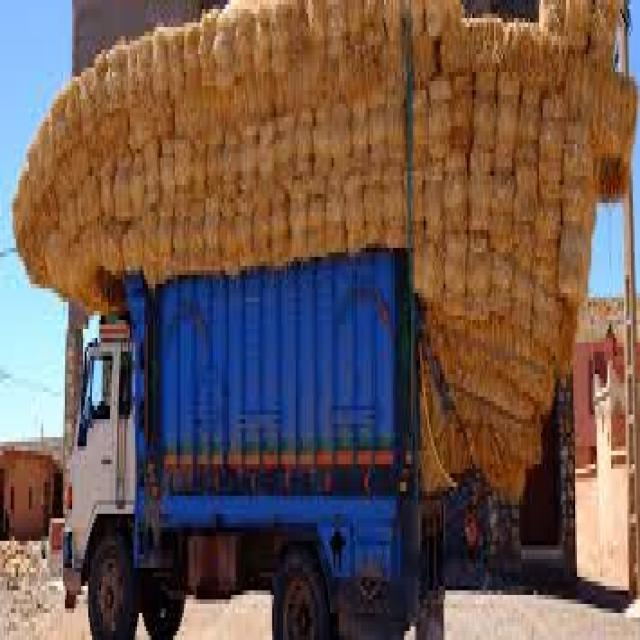uncovered: (12, 0, 636, 640)
